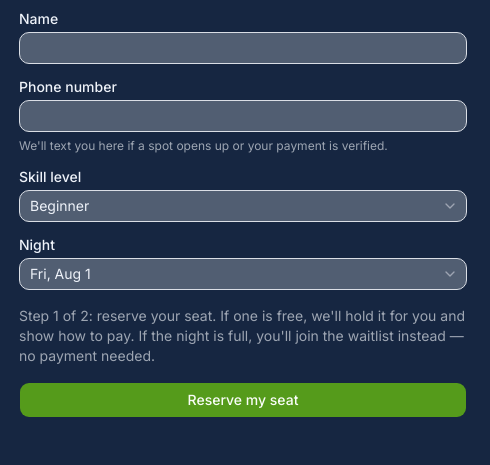
PublicOpenPlayRegistrationForm — reserve first, pay second › switches to 'Join waitlist' and says not to pay on a FULL night when the waitlist is on
Expected: the button "Reserve my seat" is shown, [19,382,467,418]
Click the dropdown named "night" at (60, 274), box [19,258,467,290]
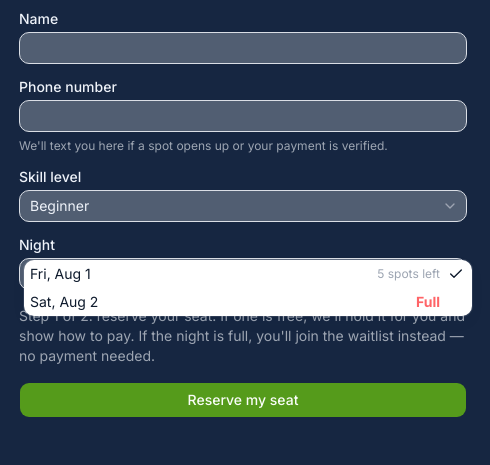
Click the option "Sat, Aug 2 Full" at (64, 302), box [24,288,472,316]
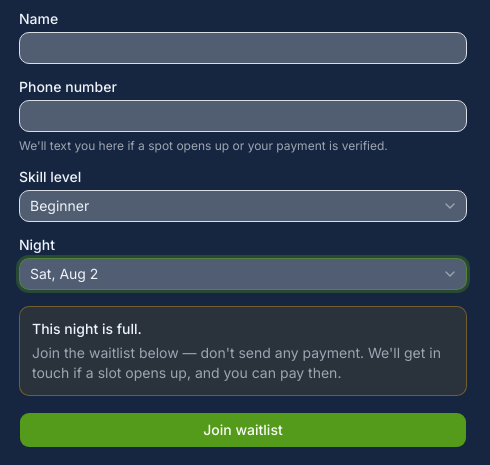
Expected: the text "This night is full." is shown, [32,320,142,337]
Expected: the text "don't send any payment" is shown, [32,344,368,361]
Expected: the button "Join waitlist" is shown, [19,412,467,448]
